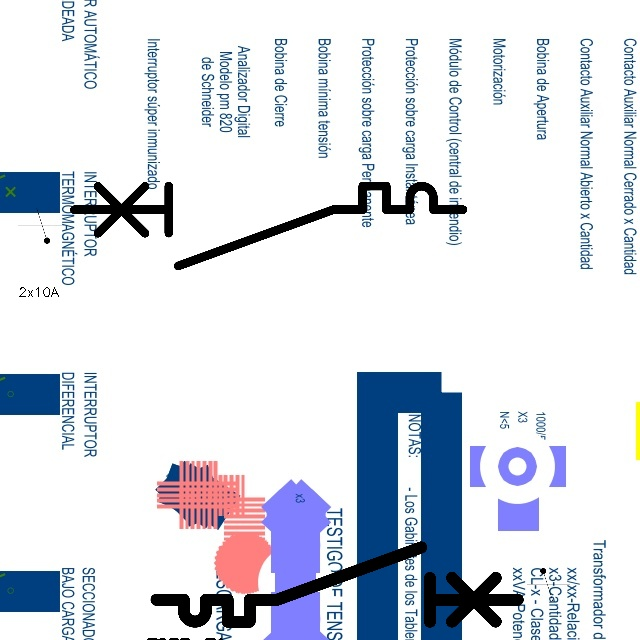interruptor_termomagnetico: (64, 176, 472, 276), (147, 538, 527, 631)
